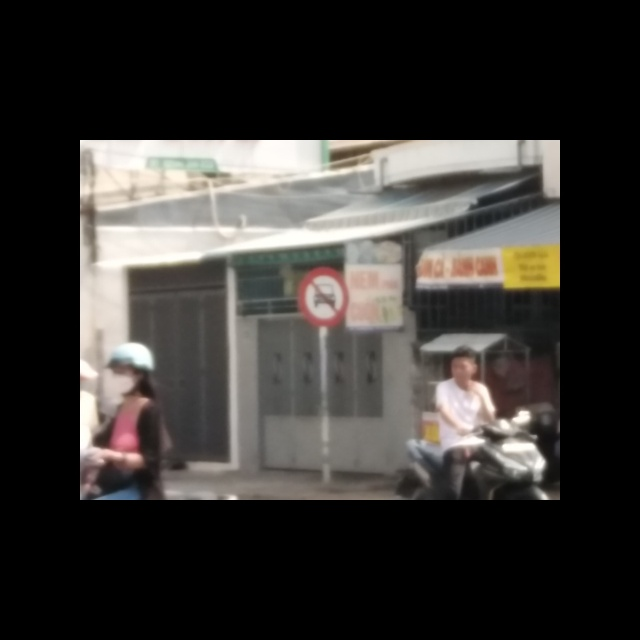Cấm xe ô tô: (297, 266, 351, 327)
